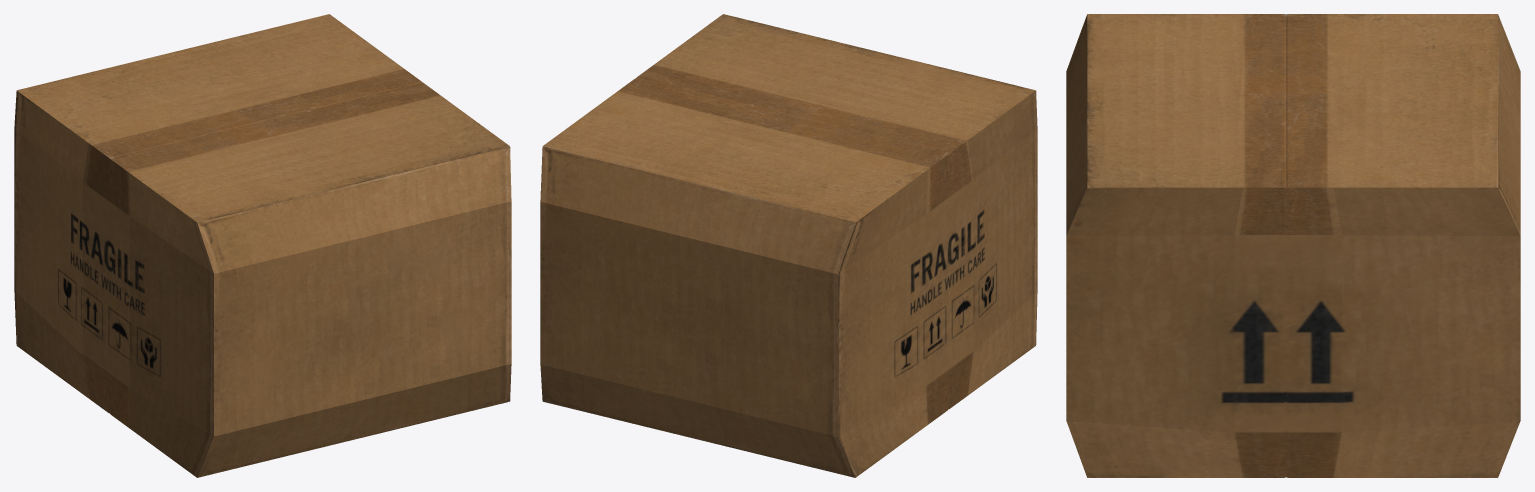
File: Cardboard Box 2.glb
3 views of the same model, side by side, from view 1: azimuth 30°, elevation 25°; view 2: azimuth 150°, elevation 25°; view 3: azimuth 270°, elevation 25° (orthographic). The views are drawn at different scales.
Visible parts, largest first — view 1: Cube.004; view 2: Cube.004; view 3: Cube.004.
Part boxes in pixels (left/top/right/bottom): Cube.004: left=14, top=14, right=511, bottom=477; Cube.004: left=540, top=14, right=1037, bottom=477; Cube.004: left=1066, top=14, right=1520, bottom=477.
Bounding box in the file's own units: 1.25 × 0.9614 × 1.36.
2 materials, 2 textured.
